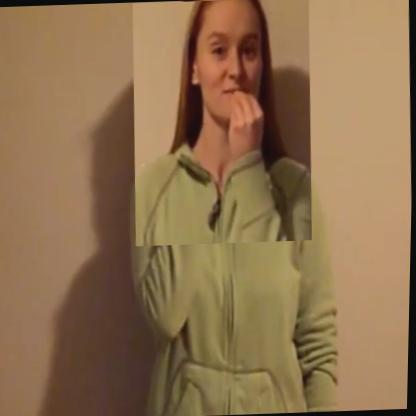Food: (128, 0, 317, 246)
